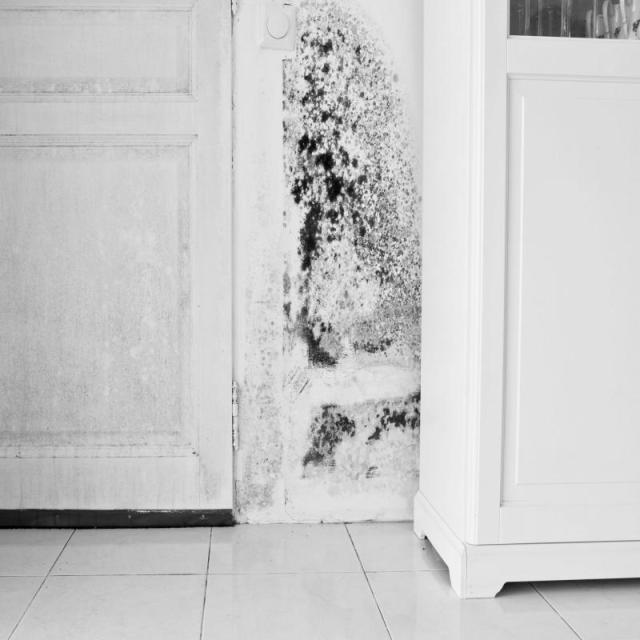stain marks: (233, 7, 452, 519)
